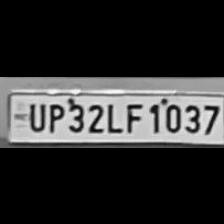0: (162, 100, 180, 132)
1: (145, 99, 163, 133)
2: (85, 99, 103, 134)
3: (64, 97, 84, 133), (182, 100, 200, 134)
7: (200, 100, 220, 134)
F: (123, 99, 143, 134)
L: (104, 99, 122, 134)
P: (44, 98, 64, 132)
U: (23, 98, 45, 132)
